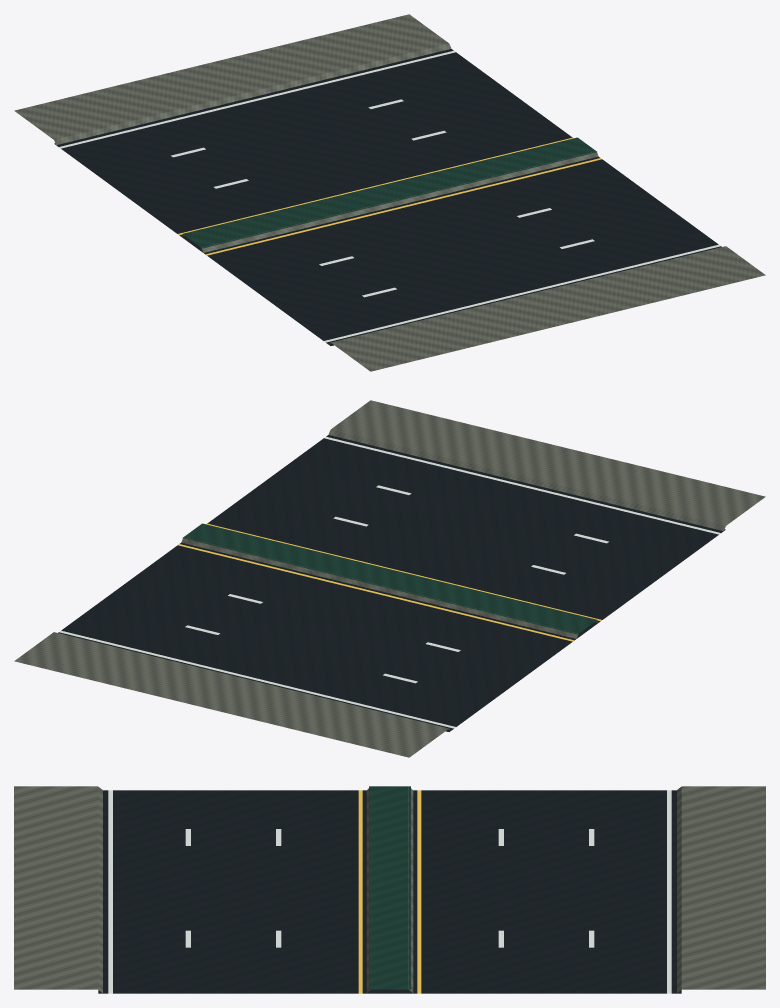
File: road_arterial_6lane_16m_LOD1.glb
3 renders of one model, top to bottom at view 1: azimuth 30°, elevation 25°; view 2: azimuth 150°, elevation 25°; view 3: azimuth 270°, elevation 25°, orthographic. The views are drawn at different scales.
Visible parts, largest first — view 1: road_arterial_6lane_16m__surface.001, road_arterial_6lane_16m__markings.001; view 2: road_arterial_6lane_16m__surface.001, road_arterial_6lane_16m__markings.001; view 3: road_arterial_6lane_16m__surface.001, road_arterial_6lane_16m__markings.001.
Part boxes in pixels (bbox=[...]): road_arterial_6lane_16m__surface.001: bbox=[14, 14, 765, 371]; road_arterial_6lane_16m__markings.001: bbox=[59, 50, 720, 342]; road_arterial_6lane_16m__surface.001: bbox=[14, 400, 765, 757]; road_arterial_6lane_16m__markings.001: bbox=[59, 436, 720, 728]; road_arterial_6lane_16m__surface.001: bbox=[14, 786, 765, 993]; road_arterial_6lane_16m__markings.001: bbox=[108, 790, 671, 993].
Size of the model in its own units: 16 by 0.15 by 25.
Materials: 6 (4 with a texture image).
